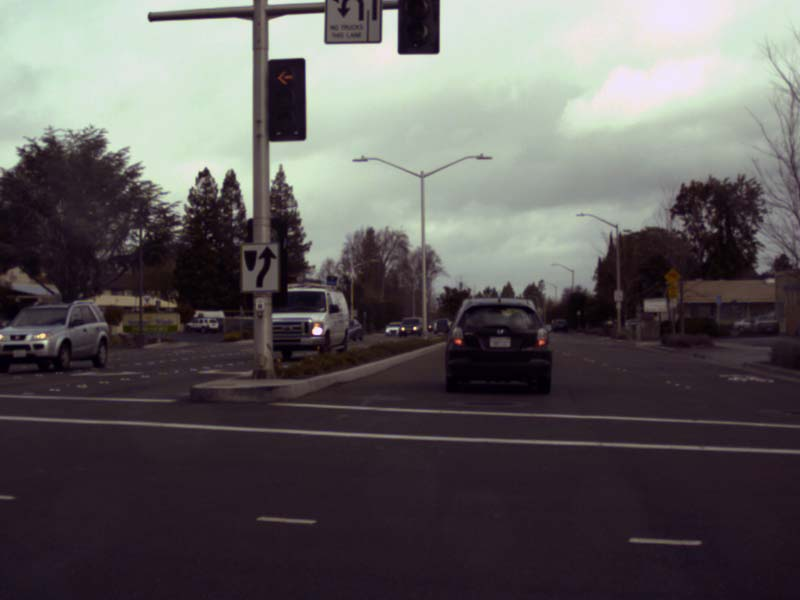Red: (268, 60, 304, 138)
